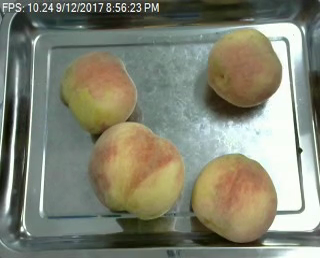Peach: (88, 120, 182, 218), (191, 152, 278, 242), (60, 50, 137, 133), (206, 27, 283, 107)
